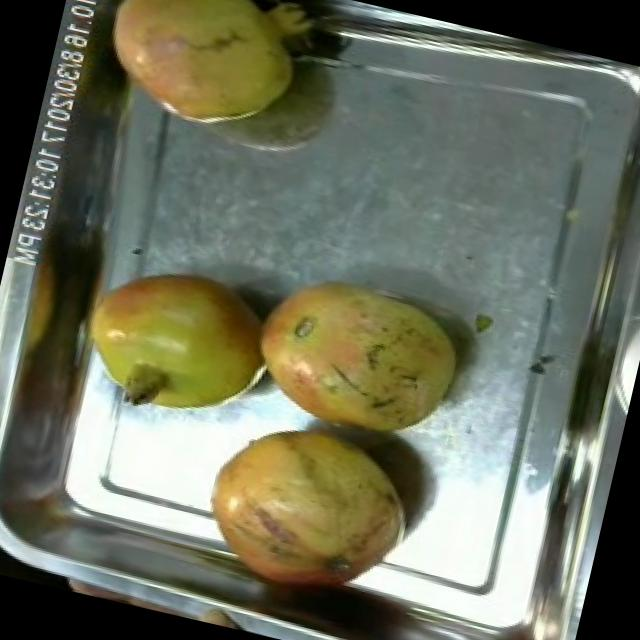fruit: (178, 399, 433, 620), (232, 252, 482, 456), (62, 244, 294, 447), (80, 0, 325, 150)
